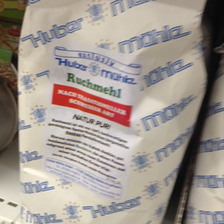flour: (16, 1, 208, 223)
